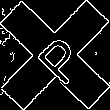P_NW: (24, 24, 86, 86)
